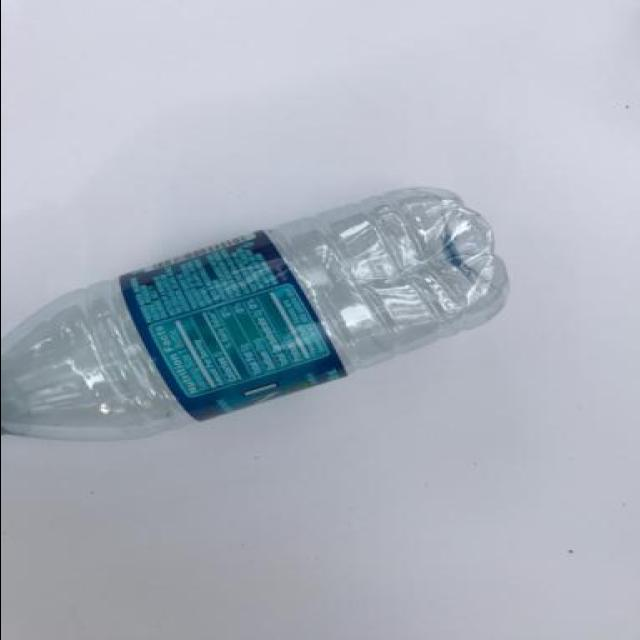PET: (0, 185, 510, 446)
